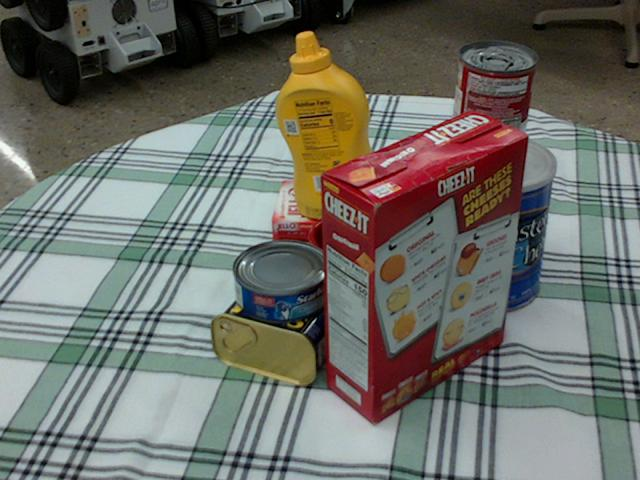cracker_box: (320, 110, 529, 423)
gelatin_box: (271, 181, 345, 244)
master_chef_can: (435, 133, 556, 312)
mug: (308, 210, 425, 328)
mustard_bottle: (274, 32, 385, 219)
potted_meat_can: (212, 270, 352, 384)
sugar_box: (347, 156, 477, 277)
tomato_soup_can: (448, 41, 535, 176)
tuna_fish_can: (233, 239, 330, 323)
